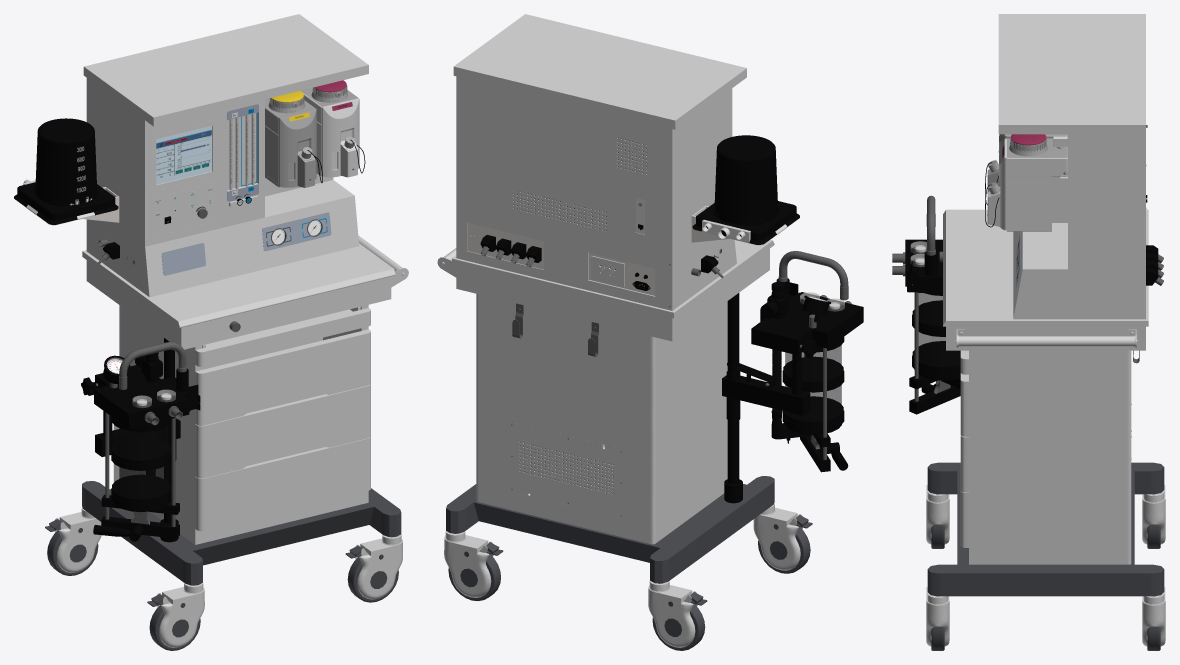
Rendered from anesthesiaMachine.glb.
The picture shows the model from 3 angles, left to right: view 1: azimuth 30°, elevation 25°; view 2: azimuth 150°, elevation 25°; view 3: azimuth 270°, elevation 25°; orthographic projection. The views are drawn at different scales.
Visible parts, largest first — view 1: Medical_Anesthesia_Machine_004, Medical_Anesthesia_Machine_006, Medical_Anesthesia_Machine_005, Medical_Anesthesia_Machine_002, Medical_Anesthesia_Machine_001, Medical_Anesthesia_Machine_Icon_001, Medical_Anesthesia_Machine_Screen, Medical_Anesthesia_Machine_007, Medical_Anesthesia_Machine_Icon_004; view 2: Medical_Anesthesia_Machine_004, Medical_Anesthesia_Machine_002, Medical_Anesthesia_Machine_003, Medical_Anesthesia_Machine_001, Medical_Anesthesia_Machine_Icon_001, Medical_Anesthesia_Machine_006, Medical_Anesthesia_Machine_007; view 3: Medical_Anesthesia_Machine_004, Medical_Anesthesia_Machine_005, Medical_Anesthesia_Machine_001, Medical_Anesthesia_Machine_002, Medical_Anesthesia_Machine_006, Medical_Anesthesia_Machine_Icon_006.
Boxes of the visible parts, x1,y1,x2,y2 form: Medical_Anesthesia_Machine_004: (45, 14, 408, 650); Medical_Anesthesia_Machine_006: (114, 104, 331, 498); Medical_Anesthesia_Machine_005: (265, 80, 365, 187); Medical_Anesthesia_Machine_002: (81, 338, 200, 542); Medical_Anesthesia_Machine_001: (93, 412, 179, 541); Medical_Anesthesia_Machine_Icon_001: (35, 118, 97, 205); Medical_Anesthesia_Machine_Screen: (156, 125, 211, 184); Medical_Anesthesia_Machine_007: (14, 179, 118, 225); Medical_Anesthesia_Machine_Icon_004: (229, 113, 254, 190); Medical_Anesthesia_Machine_004: (437, 14, 812, 650); Medical_Anesthesia_Machine_002: (722, 251, 863, 503); Medical_Anesthesia_Machine_003: (510, 421, 623, 518); Medical_Anesthesia_Machine_001: (771, 337, 848, 472); Medical_Anesthesia_Machine_Icon_001: (714, 135, 778, 224); Medical_Anesthesia_Machine_006: (785, 292, 844, 420); Medical_Anesthesia_Machine_007: (692, 201, 799, 245); Medical_Anesthesia_Machine_004: (926, 14, 1165, 650); Medical_Anesthesia_Machine_005: (985, 134, 1067, 231); Medical_Anesthesia_Machine_001: (909, 292, 960, 414); Medical_Anesthesia_Machine_002: (892, 195, 942, 292); Medical_Anesthesia_Machine_006: (910, 176, 1067, 366); Medical_Anesthesia_Machine_Icon_006: (1002, 137, 1047, 158).
Bounding box in the file's own units: 1.05 × 1.61 × 0.7445.
Materials: 25 (8 with a texture image).
